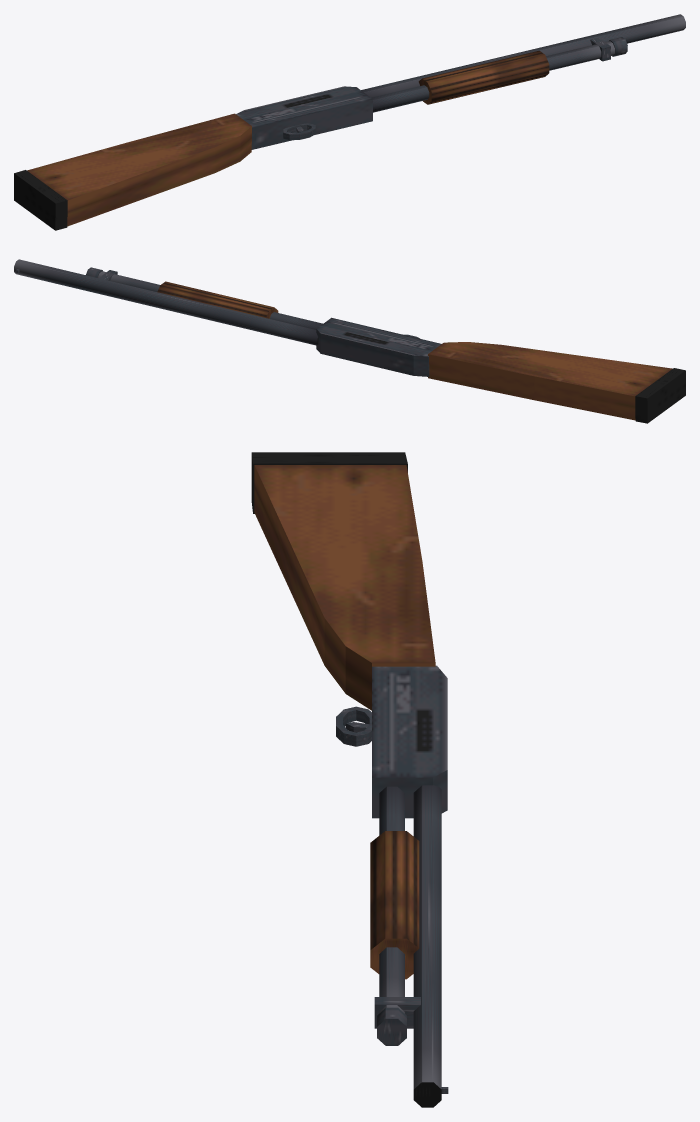
File: shotgun.obj
The picture shows the model from 3 angles, top to bottom: view 1: azimuth 30°, elevation 25°; view 2: azimuth 150°, elevation 25°; view 3: azimuth 270°, elevation 25°; orthographic projection. The views are drawn at different scales.
Visible parts, largest first — view 1: shotgun; view 2: shotgun; view 3: shotgun.
Boxes of the visible parts, x1,y1,x2,y2 form: shotgun: (14, 14, 685, 230); shotgun: (14, 259, 685, 423); shotgun: (251, 452, 448, 1107).
Bounding box in the file's own units: 1.09 × 0.0433 × 0.1485.
1 material, 1 textured.
